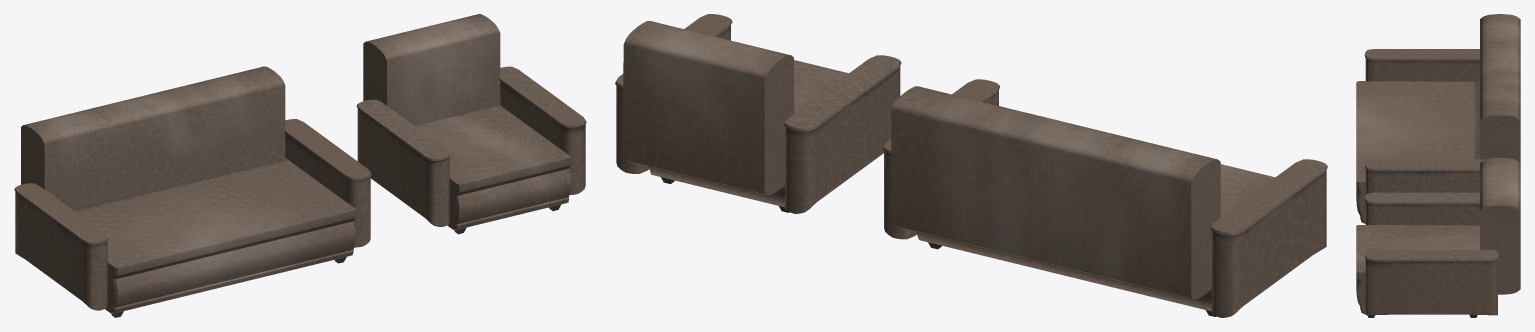
The model's file is Couch-Chair.fbx.
The picture shows the model from 3 angles, left to right: view 1: azimuth 30°, elevation 25°; view 2: azimuth 150°, elevation 25°; view 3: azimuth 270°, elevation 25°; orthographic projection. The views are drawn at different scales.
Parts seen in each view (by area): view 1: Couch_Sitting, Couch_Back_Rest, Couch, Chair, Chair_Sitting, Chair_Back_Rest; view 2: Couch_Back_Rest, Chair_Back_Rest, Couch, Chair, Couch_Sitting, Chair_Sitting; view 3: Chair, Couch_Sitting, Couch, Couch_Back_Rest, Chair_Back_Rest, Chair_Sitting.
Part boxes in pixels (box(x1,y1,x2,y2)): Couch_Sitting: box(73, 157, 355, 313); Couch_Back_Rest: box(21, 66, 285, 209); Couch: box(14, 119, 371, 317); Chair: box(356, 66, 586, 234); Chair_Sitting: box(415, 105, 571, 230); Chair_Back_Rest: box(363, 14, 500, 125); Couch_Back_Rest: box(891, 86, 1220, 299); Chair_Back_Rest: box(623, 21, 794, 195); Couch: box(883, 79, 1327, 317); Chair: box(615, 14, 901, 213); Couch_Sitting: box(916, 164, 1274, 311); Chair_Sitting: box(648, 60, 848, 207); Chair: box(1364, 192, 1498, 317); Couch_Sitting: box(1356, 81, 1479, 223); Couch: box(1364, 49, 1484, 194); Couch_Back_Rest: box(1480, 14, 1520, 162); Chair_Back_Rest: box(1480, 158, 1520, 294); Chair_Sitting: box(1356, 225, 1479, 314).
Bounding box in the file's own units: 709 × 181 × 233.
